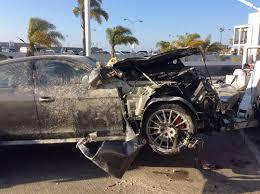bonnet-dent: (118, 43, 205, 68)
fender-dent: (129, 83, 180, 111)
